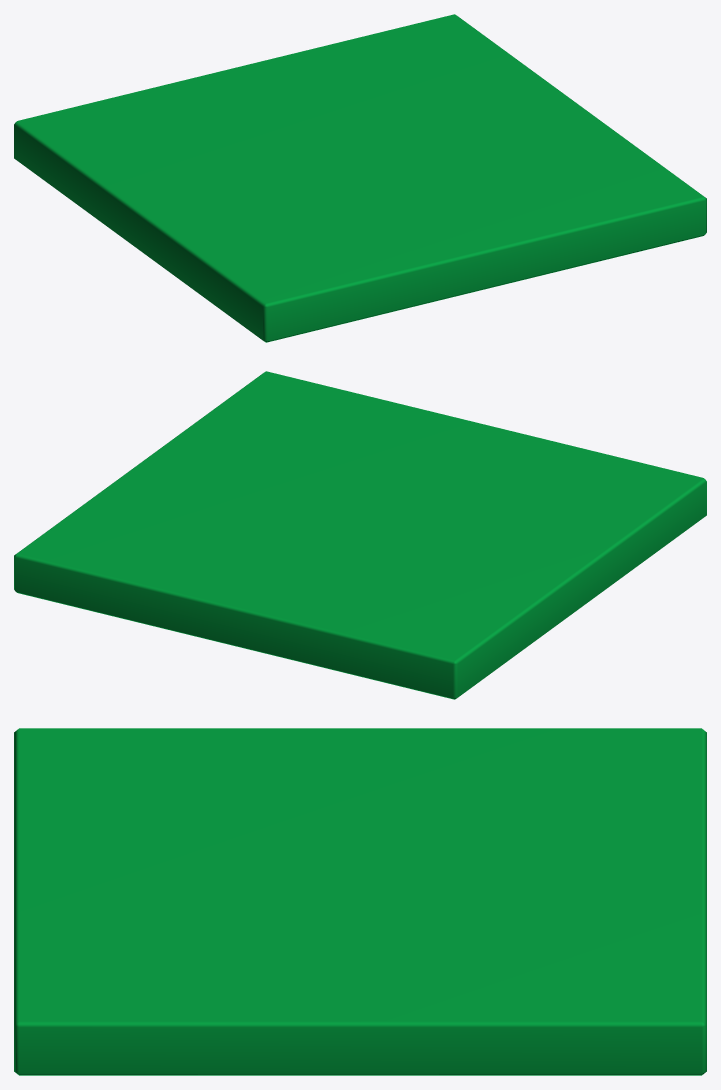
Rendered from City_18_Base_2.glb.
3 renders of one model, top to bottom at view 1: azimuth 30°, elevation 25°; view 2: azimuth 150°, elevation 25°; view 3: azimuth 270°, elevation 25°, orthographic. The views are drawn at different scales.
Visible parts, largest first — view 1: City_18_Base_2; view 2: City_18_Base_2; view 3: City_18_Base_2.
Part boxes in pixels (x1=…): City_18_Base_2: x1=14, y1=14, x2=706, y2=342; City_18_Base_2: x1=14, y1=371, x2=706, y2=699; City_18_Base_2: x1=14, y1=728, x2=706, y2=1075.
Bounding box in the file's own units: 7.39 × 0.6294 × 7.28.
1 material, 1 textured.
